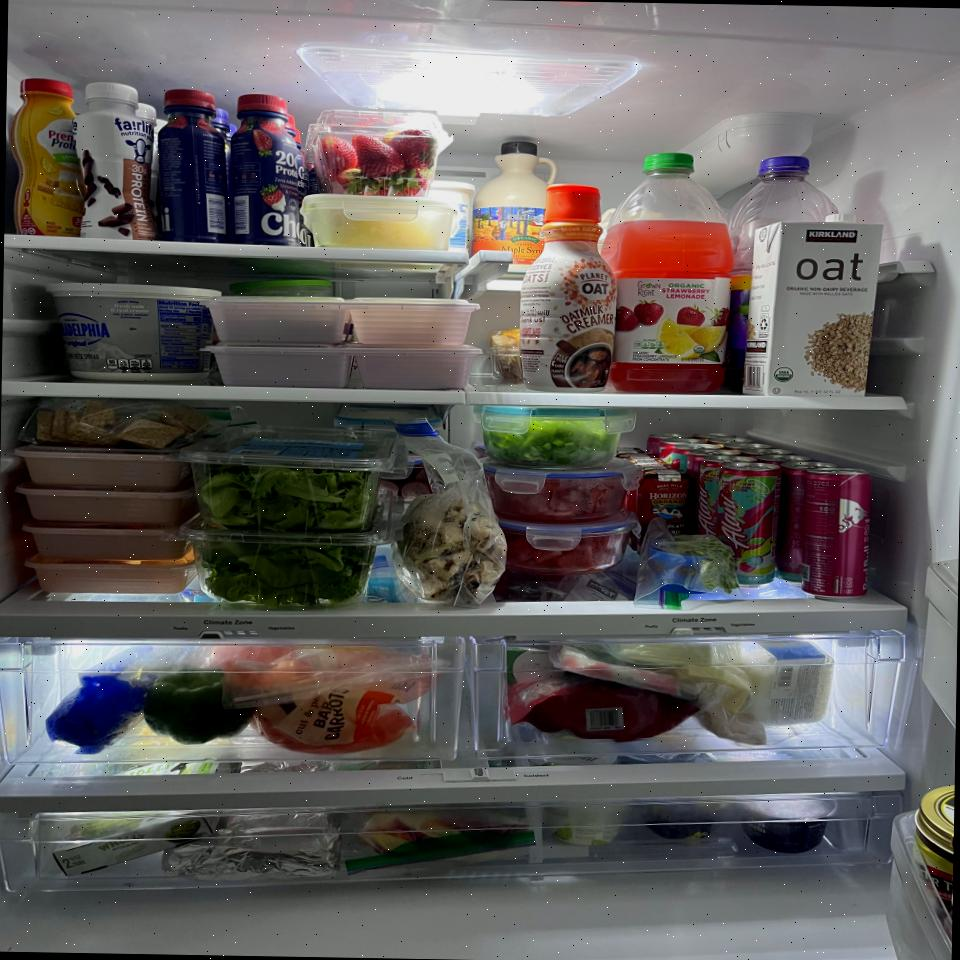bell pepper: (144, 667, 250, 747)
strawberries: (316, 111, 451, 197)
